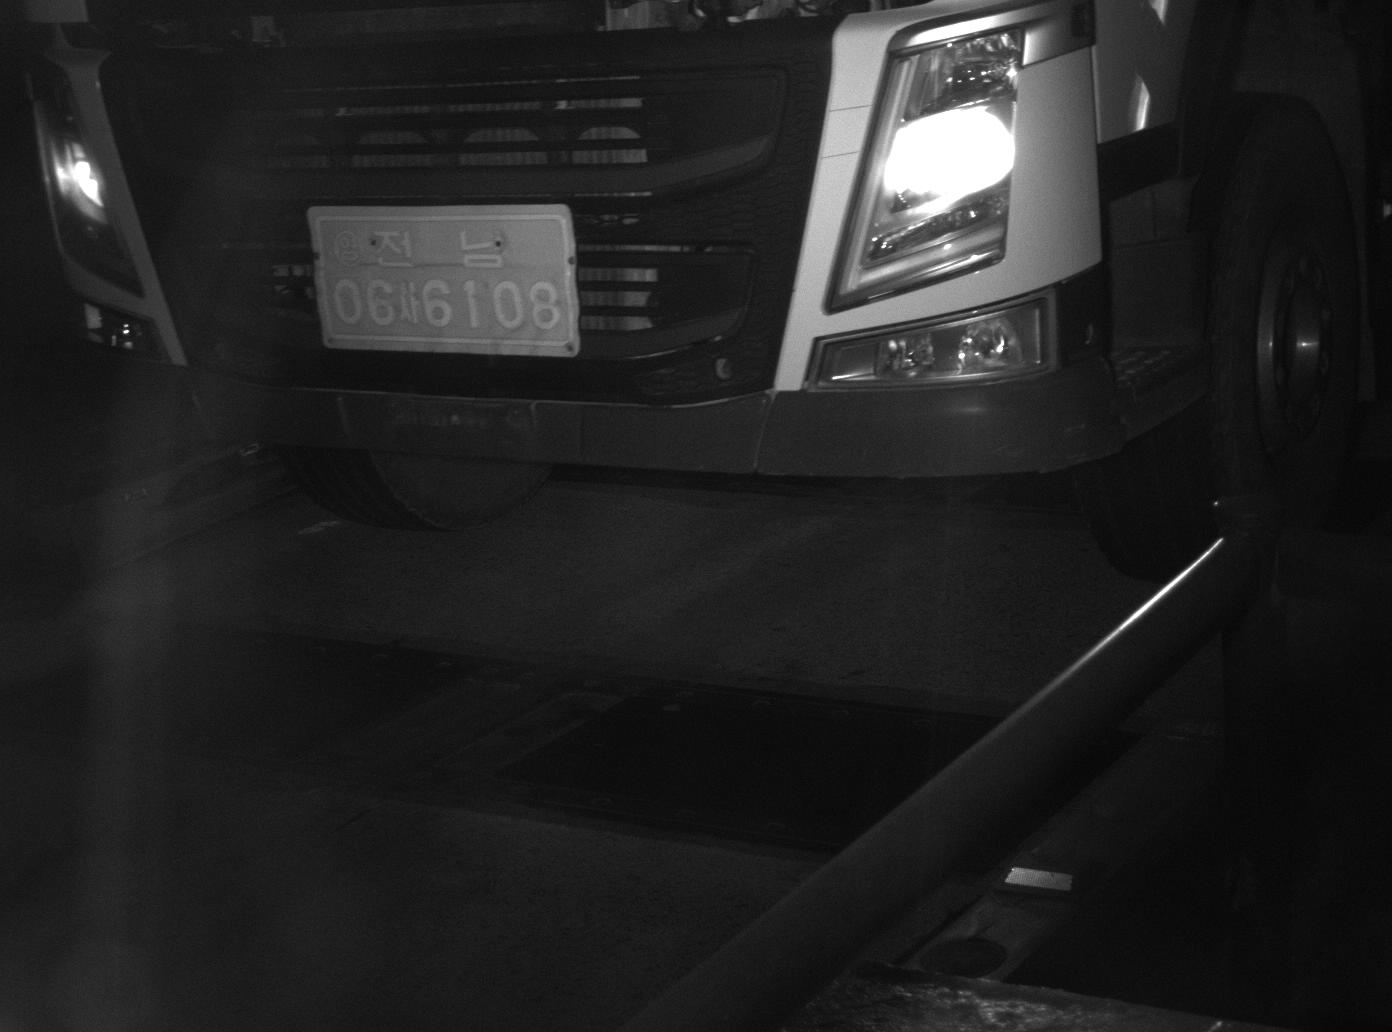car: (1, 1, 1386, 532)
plate: (302, 200, 586, 362)
